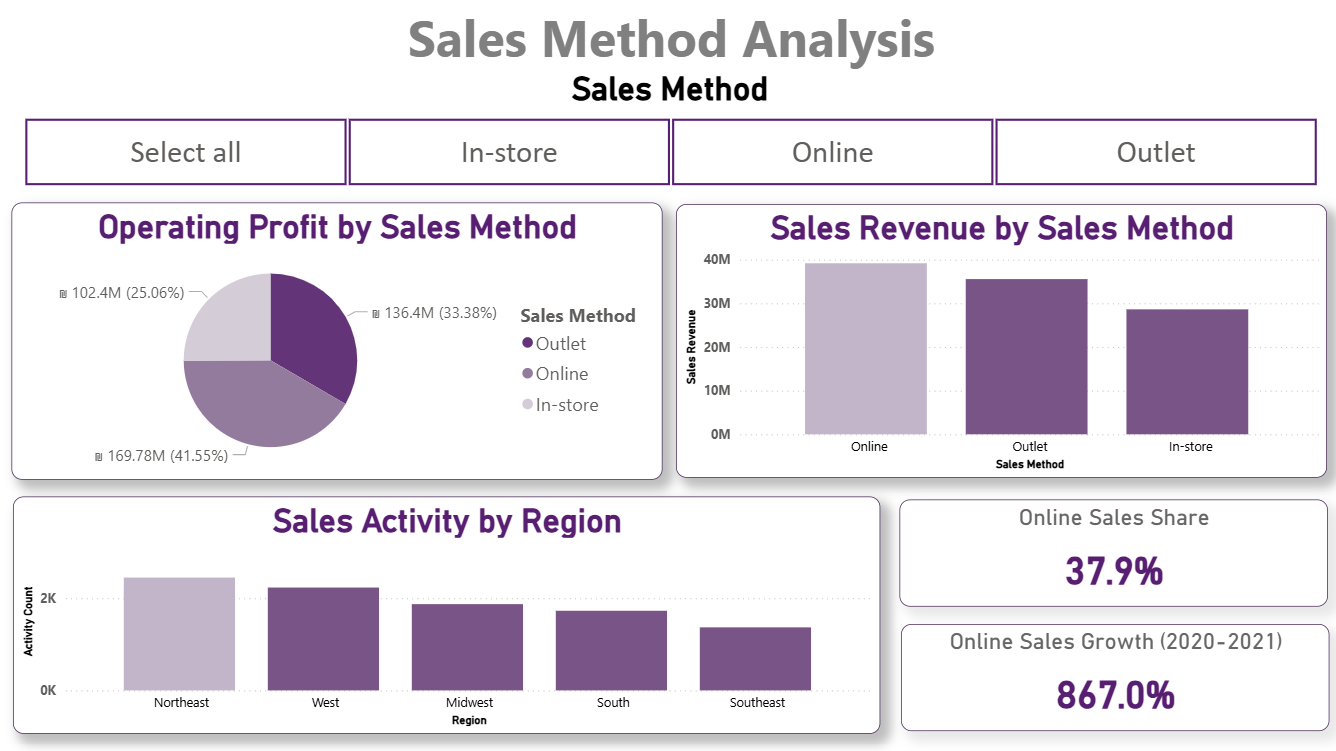

The page's visual inventory and layout, read from the dashboard file:
{"tool":"powerbi","page":{"name":"Sales Method Analysis","canvas":[1280,720],"ordinal":6},"visuals":[{"type":"textbox","box":[272,0,740,84],"z":0},{"type":"slicer","title":"Sales Method","fields":{"Values":["Dim_SalesMethod.Sales Method"]},"box":[0,68,1280,118],"z":1000},{"type":"pieChart","title":" Operating Profit by Sales Method      ","fields":{"Category":["Dim_SalesMethod.Sales Method"],"Y":["Sum(Fact_Sales.Operating Profit)"]},"box":[13.3,195.3,620,264],"z":2000},{"type":"columnChart","title":"Sales Activity by Region","fields":{"Category":["Dim_Geography.Region"],"Y":["CountNonNull(Fact_Sales.Method ID)"]},"box":[14,476,826,226],"z":3000},{"type":"card","title":"Online Sales Share","fields":{"Values":["MeasuresTable.Online Sales Percentage of Total"]},"box":[858.7,478.7,408,102],"z":4000},{"type":"card","title":"Online Sales Growth (2020-2021)","fields":{"Values":["MeasuresTable.Online Sales Growth Rate"]},"box":[859.3,596.7,408,102],"z":5000},{"type":"clusteredColumnChart","title":"Sales Revenue by Sales Method","fields":{"Category":["Dim_SalesMethod.Sales Method"],"Y":["Sum(Fact_Sales.Total_Profit_P)"]},"box":[646,197.3,620,260.7],"z":6000}]}

Visuals, with their boxes in screenshot pixels (x1, y1, x2, y2), scaled from the page's 1280x720 canvas onto the 1336x751 screenshot:
textbox: left=284, top=0, right=1056, bottom=88
"Sales Method" slicer: left=0, top=71, right=1335, bottom=194
" Operating Profit by Sales Method      " pieChart: left=14, top=204, right=661, bottom=479
"Sales Activity by Region" columnChart: left=15, top=496, right=877, bottom=732
"Online Sales Share" card: left=896, top=499, right=1322, bottom=606
"Online Sales Growth (2020-2021)" card: left=897, top=622, right=1323, bottom=729
"Sales Revenue by Sales Method" clusteredColumnChart: left=674, top=206, right=1321, bottom=478
